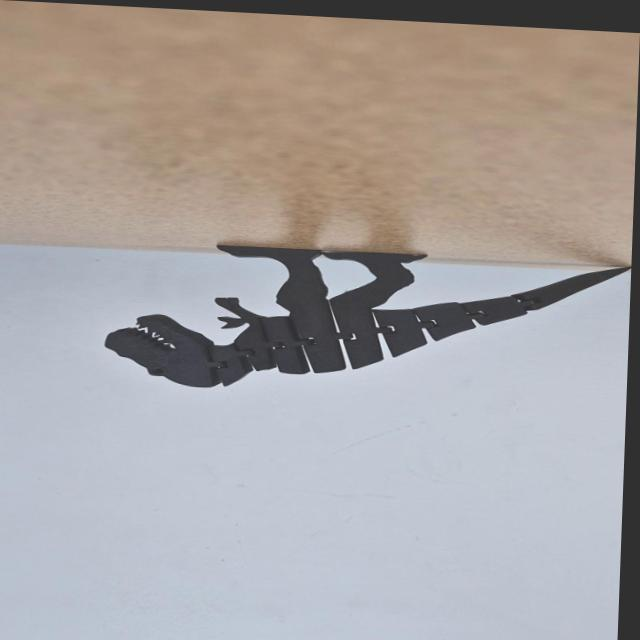dino: (101, 237, 631, 410)
